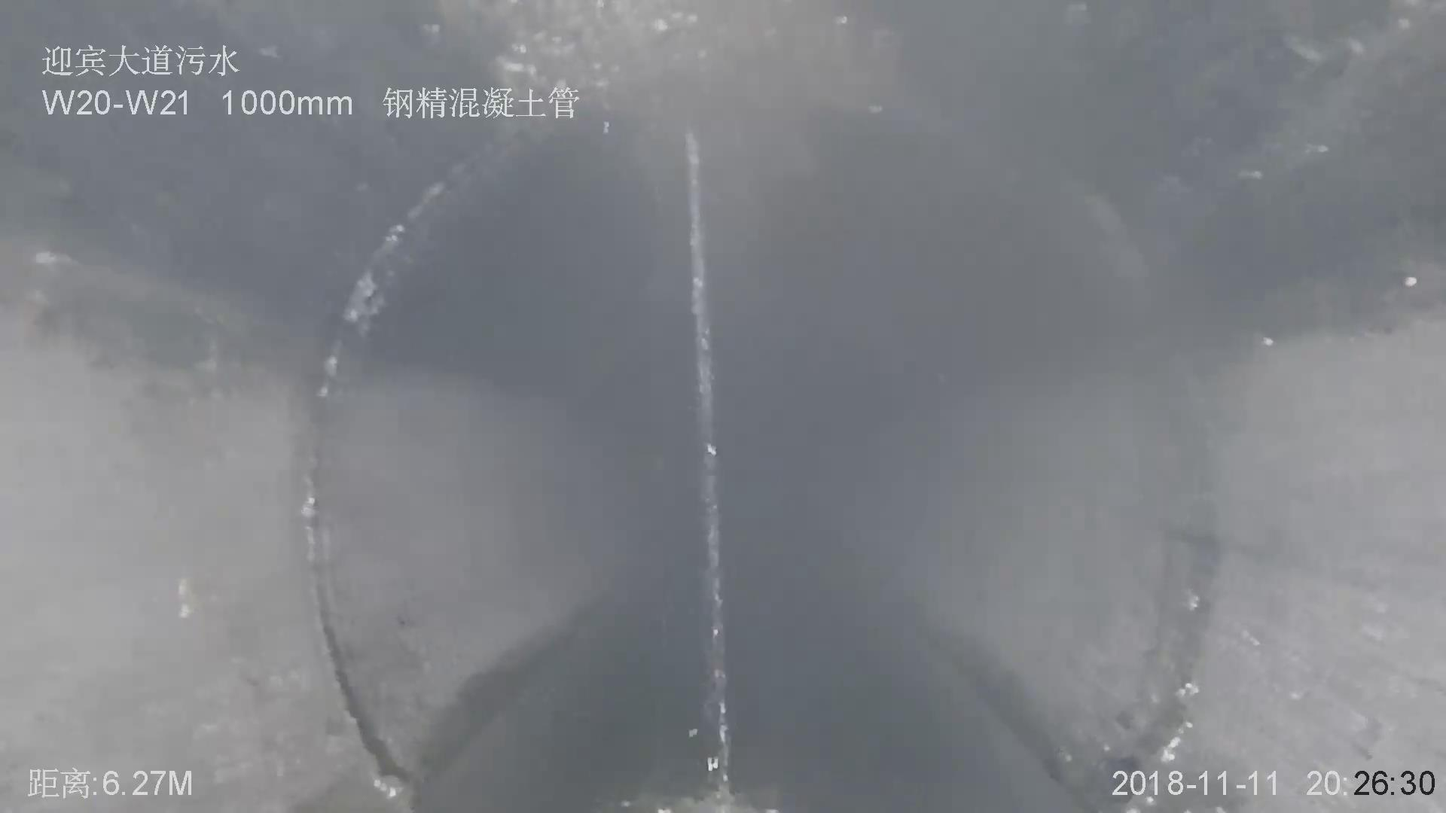SL: (669, 69, 768, 813)
